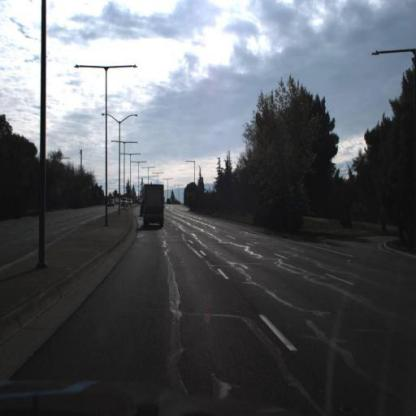car: (108, 199, 116, 209), (149, 195, 154, 205), (167, 199, 173, 207)
truck: (143, 183, 165, 228)
